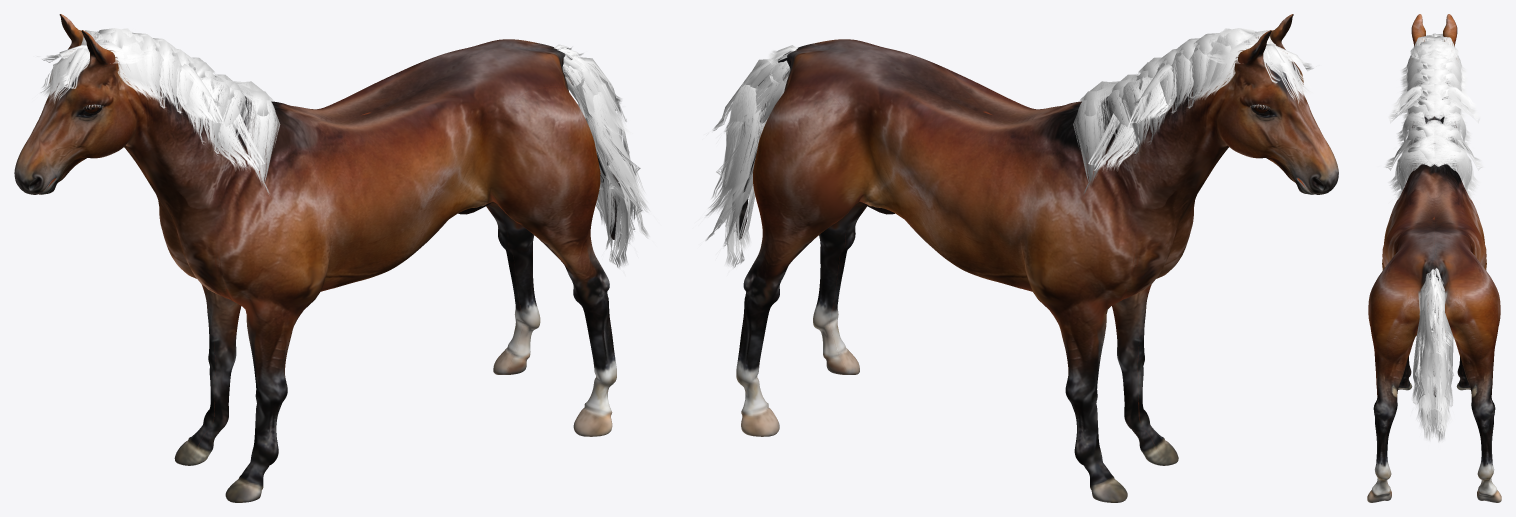
Rendered from horse_6_jrh4.glb.
The picture shows the model from 3 angles, left to right: view 1: azimuth 30°, elevation 25°; view 2: azimuth 150°, elevation 25°; view 3: azimuth 270°, elevation 25°; orthographic projection. The views are drawn at different scales.
Parts seen in each view (by area): view 1: caballo, pelo; view 2: caballo, pelo; view 3: caballo, pelo.
Boxes of the visible parts, x1,y1,x2,y2 form: caballo: (14,14,620,502); pelo: (40,28,649,268); caballo: (736,14,1338,502); pelo: (705,28,1313,268); caballo: (1367,14,1501,502); pelo: (1384,33,1484,442).
Bounding box in the file's own units: 11.61 × 8.69 × 3.2.
3 materials, 3 textured.
